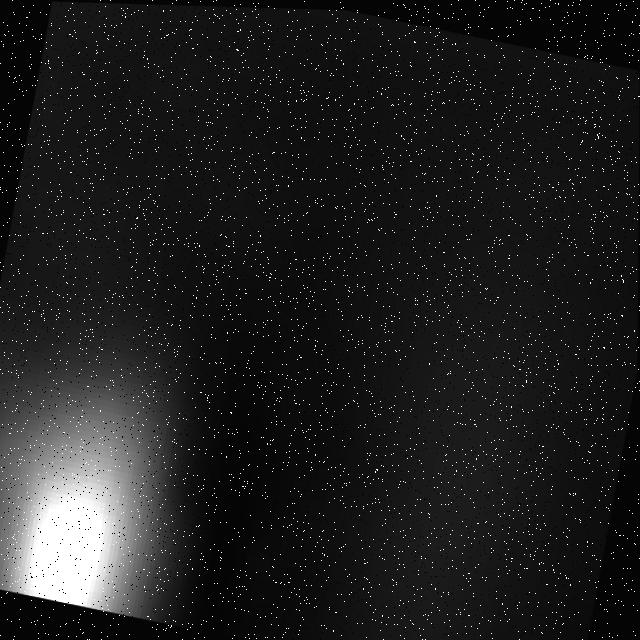person: (1, 293, 222, 625)
